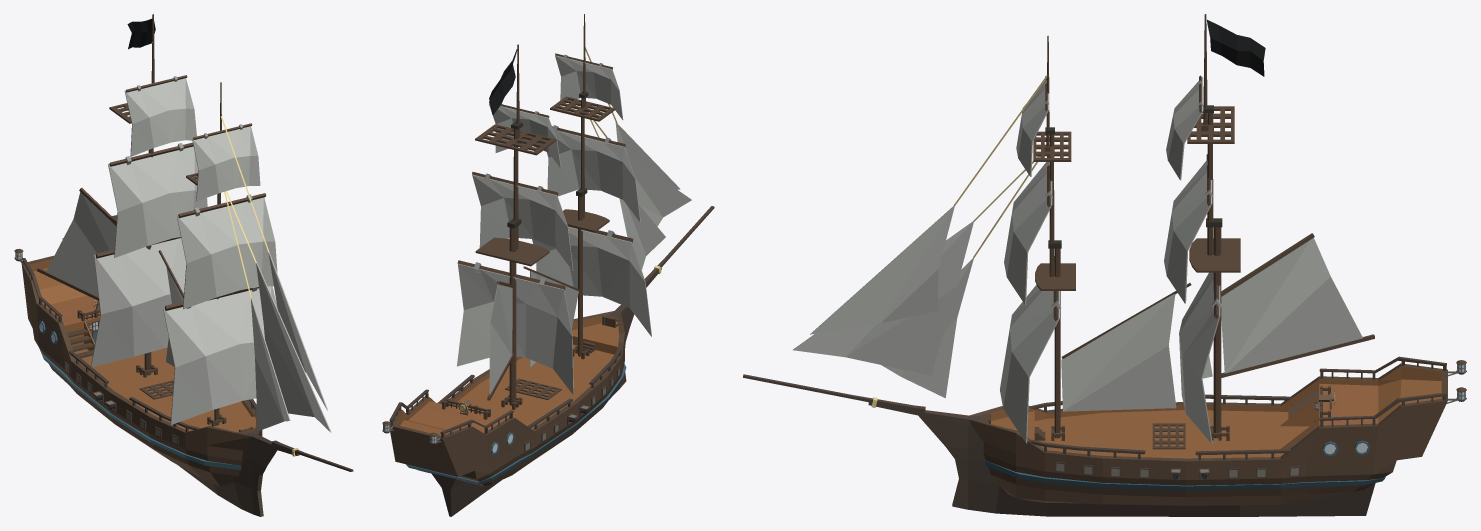
The model's file is bigshipseperated.fbx.
The picture shows the model from 3 angles, left to right: view 1: azimuth 30°, elevation 25°; view 2: azimuth 150°, elevation 25°; view 3: azimuth 270°, elevation 25°; orthographic projection. The views are drawn at different scales.
Parts seen in each view (by area): view 1: polySurface654, polySurface532, polySurface515, polySurface531, polySurface516, polySurface530, polySurface507, polySurface508, polySurface513, polySurface710, polySurface514, polySurface512 (+5 smaller); view 2: polySurface654, polySurface515, polySurface532, polySurface516, polySurface531, polySurface508, polySurface507, polySurface513, polySurface710, polySurface530, polySurface514, polySurface541 (+14 smaller); view 3: polySurface654, polySurface507, polySurface506, polySurface710, polySurface513, polySurface512, polySurface532, polySurface515, polySurface531, polySurface516, polySurface628, polySurface514 (+11 smaller).
Part boxes in pixels (left/top/right/bottom): polySurface654: left=21, top=255, right=262, bottom=487; polySurface532: left=163, top=286, right=277, bottom=424; polySurface515: left=90, top=238, right=186, bottom=367; polySurface531: left=176, top=197, right=277, bottom=309; polySurface516: left=108, top=146, right=207, bottom=257; polySurface530: left=124, top=78, right=196, bottom=156; polySurface507: left=46, top=192, right=116, bottom=296; polySurface508: left=192, top=126, right=260, bottom=201; polySurface513: left=256, top=262, right=331, bottom=432; polySurface710: left=178, top=440, right=277, bottom=516; polySurface514: left=251, top=298, right=290, bottom=430; polySurface512: left=268, top=252, right=327, bottom=410; polySurface654: left=390, top=311, right=624, bottom=486; polySurface515: left=457, top=263, right=573, bottom=394; polySurface532: left=532, top=226, right=651, bottom=336; polySurface516: left=472, top=174, right=573, bottom=270; polySurface531: left=547, top=130, right=640, bottom=222; polySurface508: left=555, top=55, right=623, bottom=119; polySurface507: left=489, top=284, right=512, bottom=394; polySurface513: left=619, top=155, right=691, bottom=237; polySurface710: left=431, top=308, right=634, bottom=516; polySurface530: left=489, top=103, right=561, bottom=168; polySurface514: left=621, top=199, right=665, bottom=269; polySurface541: left=475, top=124, right=556, bottom=155; polySurface654: left=969, top=363, right=1447, bottom=505; polySurface507: left=1221, top=238, right=1362, bottom=373; polySurface506: left=1061, top=294, right=1176, bottom=411; polySurface710: left=918, top=415, right=1375, bottom=516; polySurface513: left=793, top=221, right=973, bottom=375; polySurface512: left=810, top=205, right=954, bottom=334; polySurface532: left=1000, top=285, right=1059, bottom=443; polySurface515: left=1179, top=272, right=1220, bottom=443; polySurface531: left=1004, top=162, right=1052, bottom=304; polySurface516: left=1164, top=161, right=1212, bottom=303; polySurface628: left=985, top=460, right=1385, bottom=490; polySurface514: left=881, top=258, right=973, bottom=398.
Bounding box in the file's own units: 147 × 506 × 663.
Materials: 1 (1 with a texture image).
